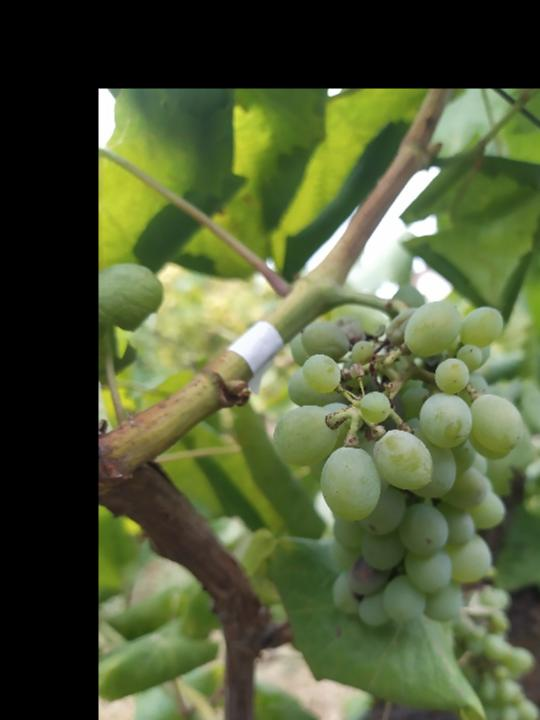grape: (269, 295, 531, 628)
